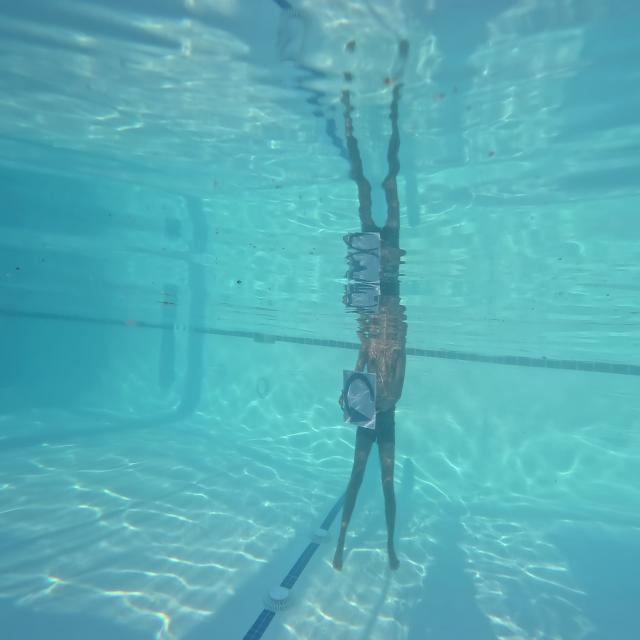blue_side: (339, 363, 381, 442)
